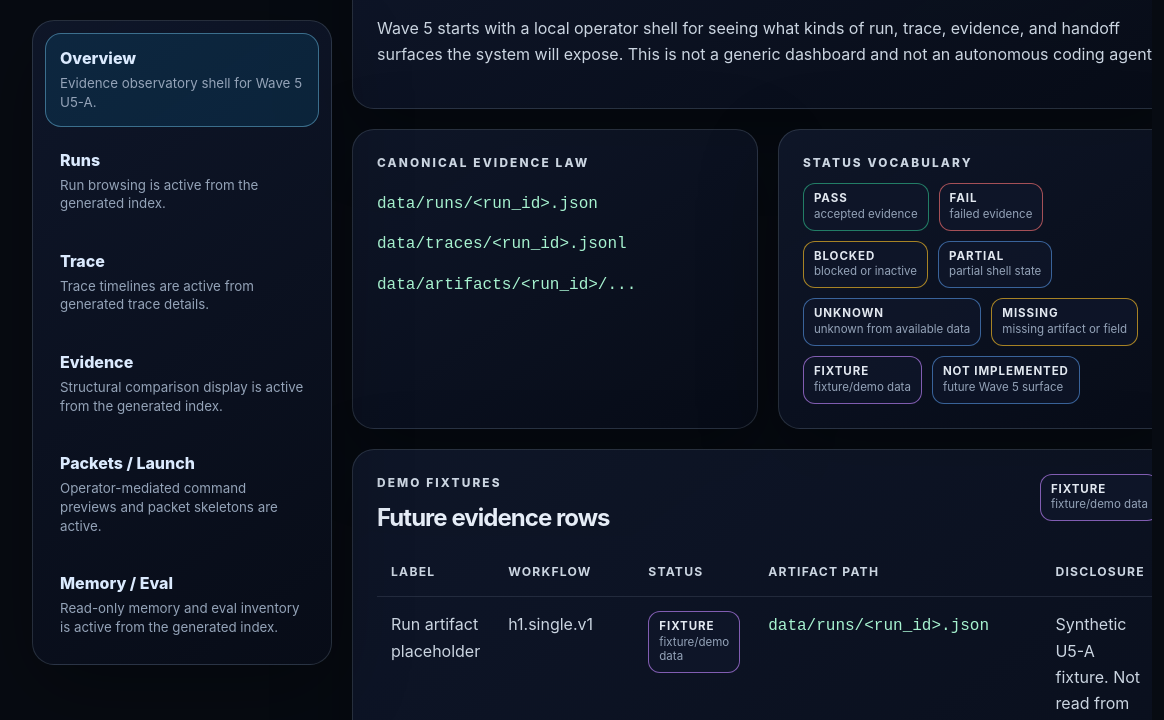
Test: U5-A workbench shell › shows missing workflow catalog guidance without fixture fallback
(page scrolled)
Click the button "Packets / Launch": x=182, y=494 [45,438,319,550]
(page scrolled)
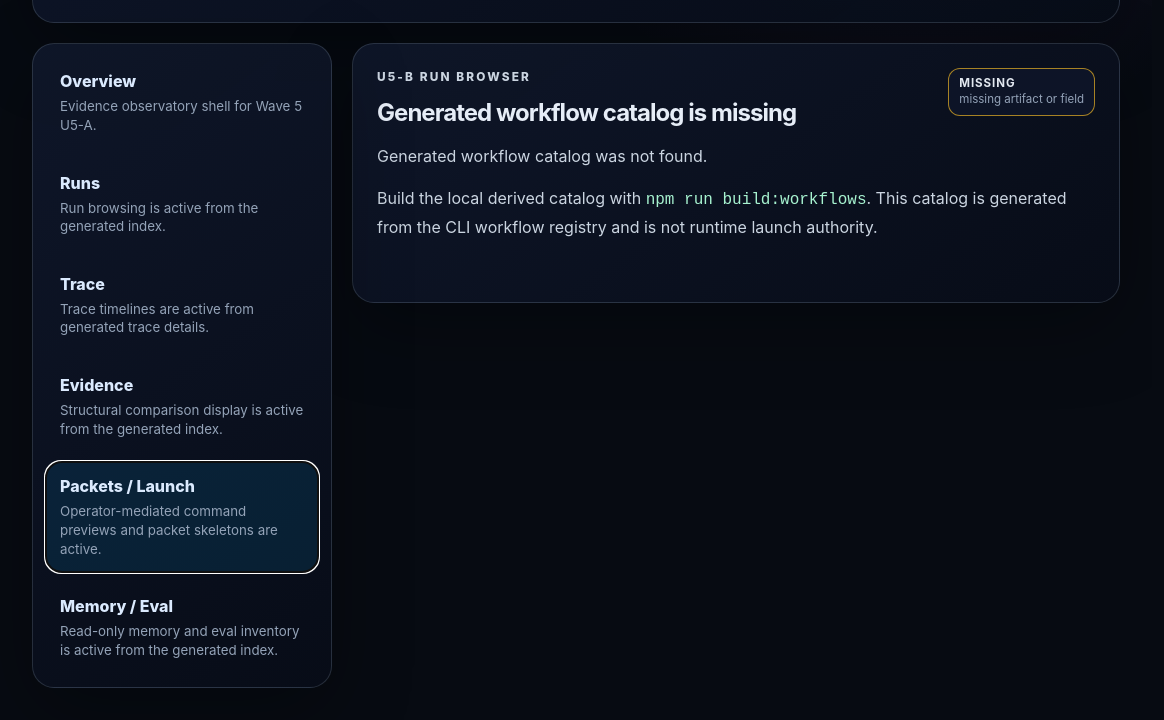
Expected: the heading "Generated workflow catalog is missing" is shown, [377,98,796,127]
Expected: the text "npm run build:workflows" is shown, [646,191,866,209]
Expected: the heading "Future evidence rows" is gone
